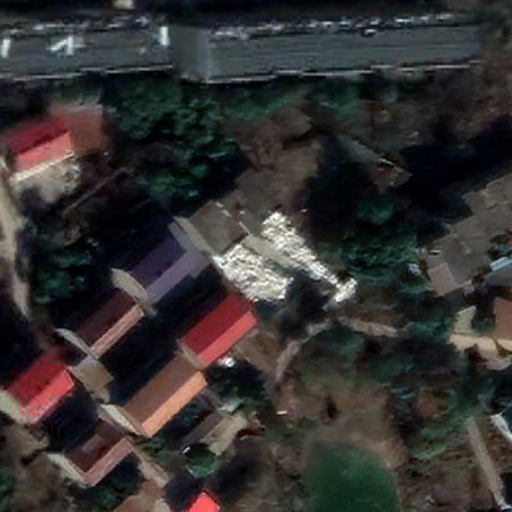msw: (216, 211, 358, 304)
